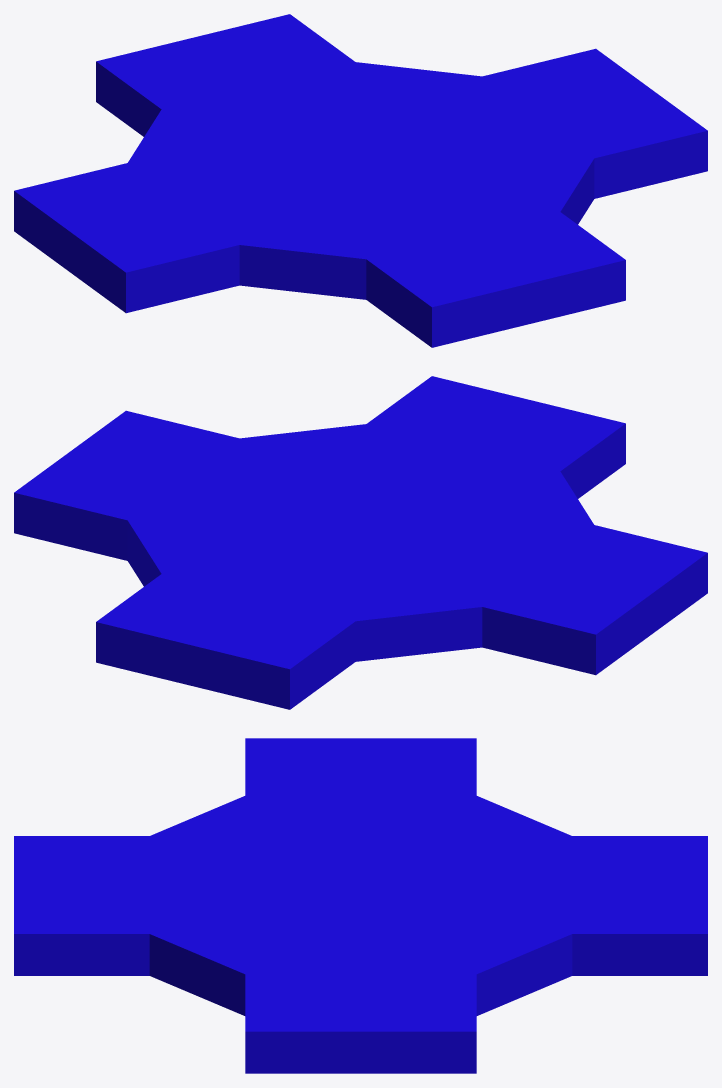
File: Junction_Cross.fbx
3 renders of one model, top to bottom at view 1: azimuth 30°, elevation 25°; view 2: azimuth 150°, elevation 25°; view 3: azimuth 270°, elevation 25°, orthographic. The views are drawn at different scales.
Parts seen in each view (by area): view 1: CrossMesh; view 2: CrossMesh; view 3: CrossMesh.
Boxes of the visible parts, x1,y1,x2,y2 form: CrossMesh: (14, 14, 707, 347); CrossMesh: (14, 376, 707, 709); CrossMesh: (14, 738, 707, 1073).
Size of the model in its own units: 7.5 by 0.5 by 7.5.
